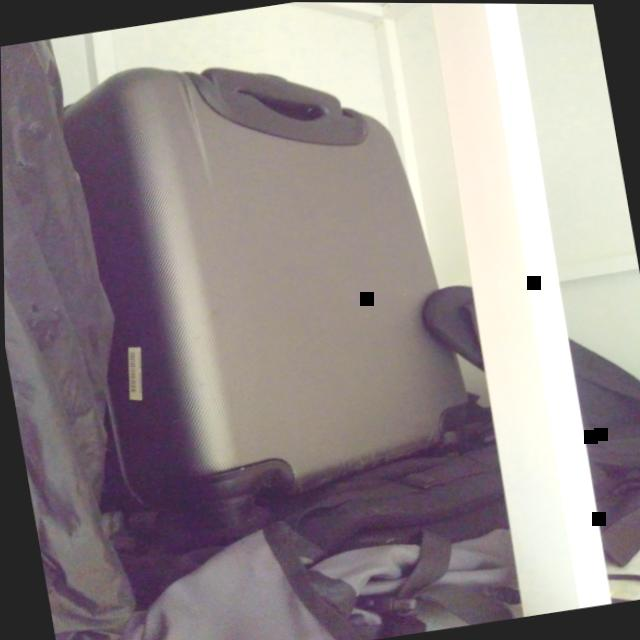luggage: (51, 19, 487, 529)
